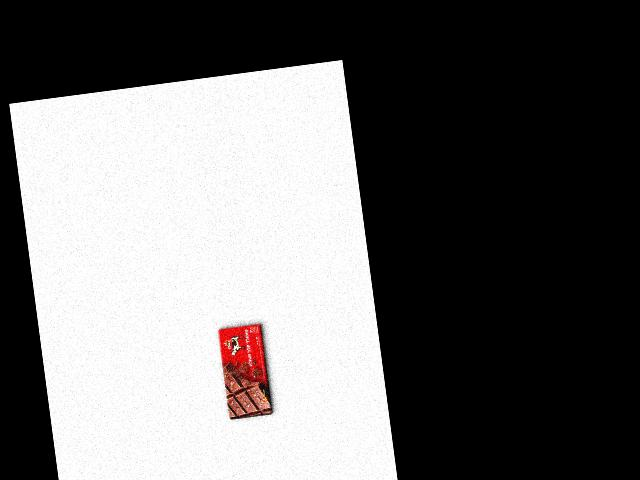chocolate: (215, 320, 276, 421)
